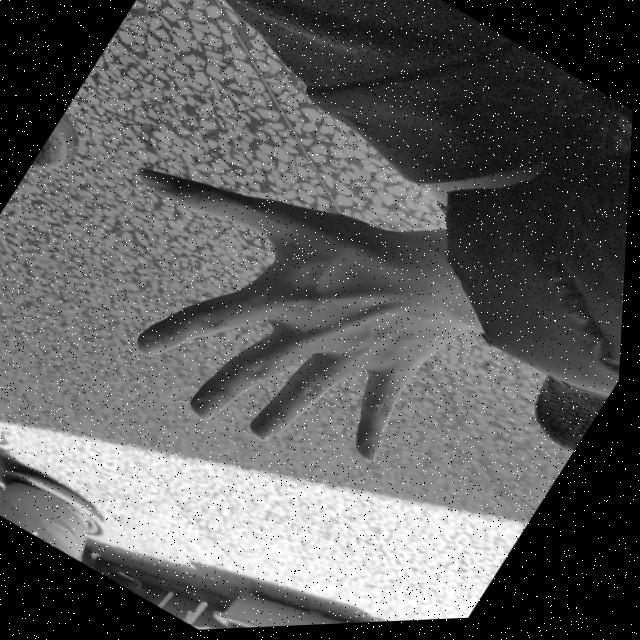hand: (169, 307, 574, 633)
